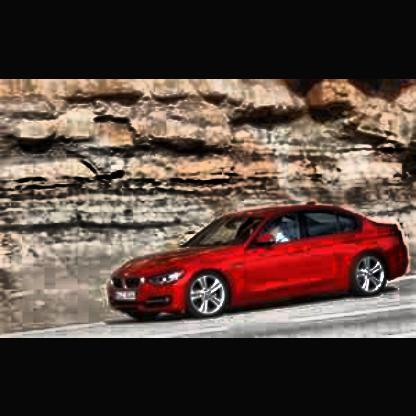BMW 3 Series Sedan 2012: (108, 205, 413, 325)
